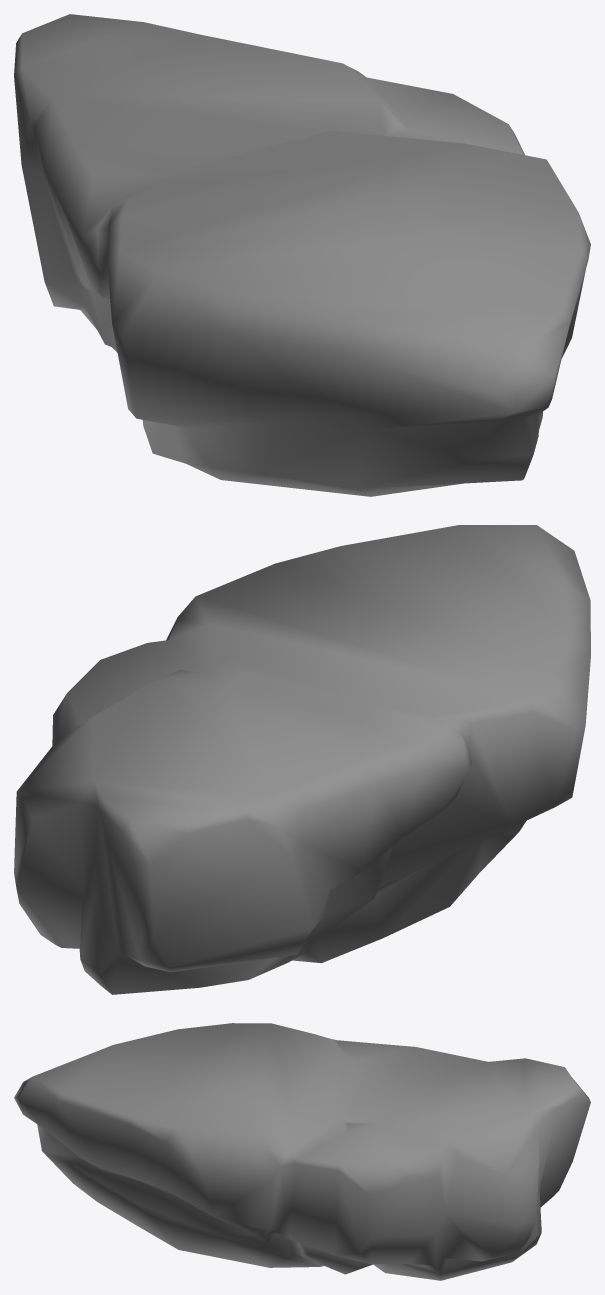
3 renders of one model, top to bottom at view 1: azimuth 30°, elevation 25°; view 2: azimuth 150°, elevation 25°; view 3: azimuth 270°, elevation 25°, orthographic. The views are drawn at different scales.
Parts seen in each view (by area): view 1: submesh_0; view 2: submesh_0; view 3: submesh_0.
Boxes of the visible parts, bbox=[...] form: submesh_0: bbox=[14, 14, 590, 496]; submesh_0: bbox=[14, 525, 590, 994]; submesh_0: bbox=[14, 1023, 590, 1280].
Bounding box in the file's own units: 4.64 × 2.65 × 8.05.
1 material, 1 textured.
